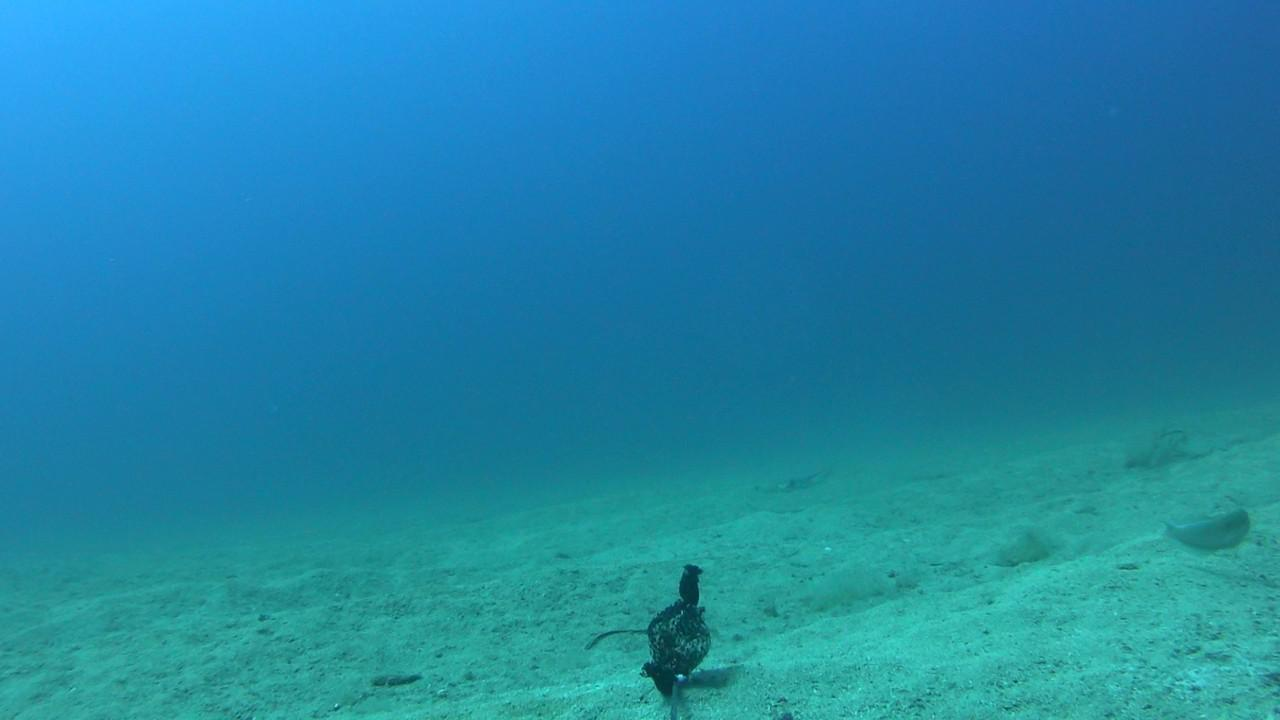myliobatis: (734, 454, 869, 512)
raor: (1156, 506, 1252, 564)
